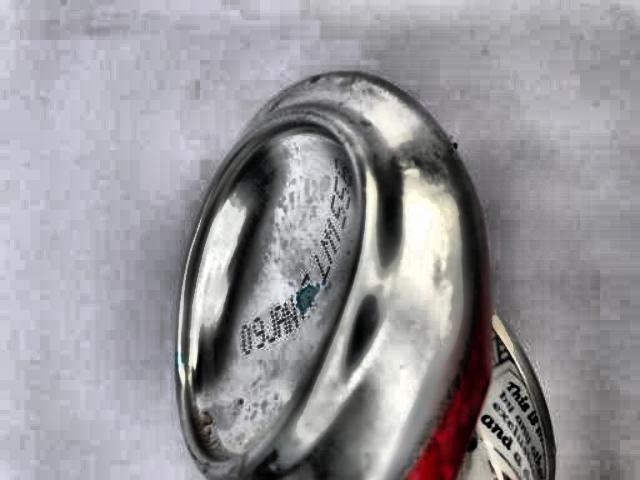Bottles: (148, 52, 572, 480)
